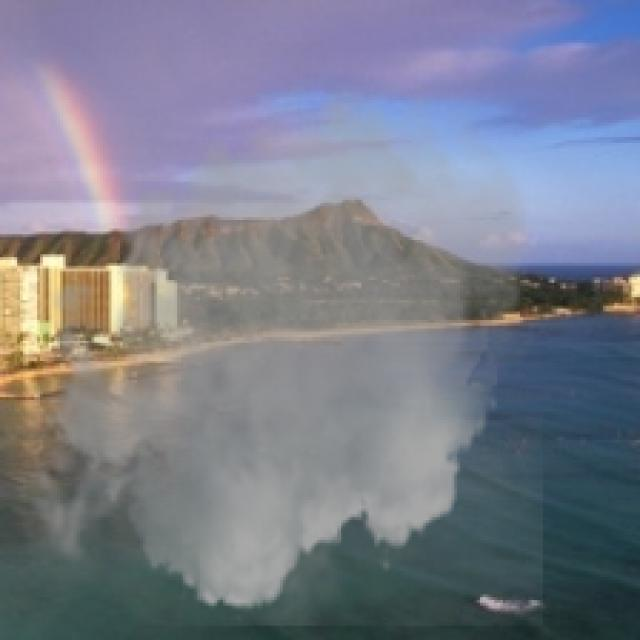Smoke: (14, 63, 543, 626)
